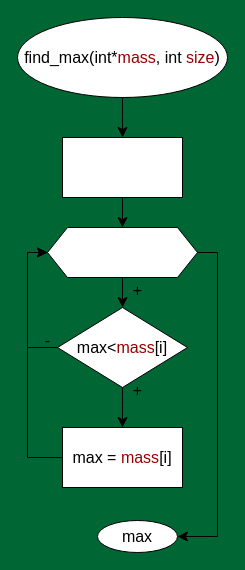
Image size: 245x570. Some labels were removed from this diagram. The box of each missing label's shape, as (x1, y1, x2, y2) in pixels:
i = 1; i < size ;i++: (46, 226, 198, 278)
max = mass [0]: (62, 136, 182, 198)
